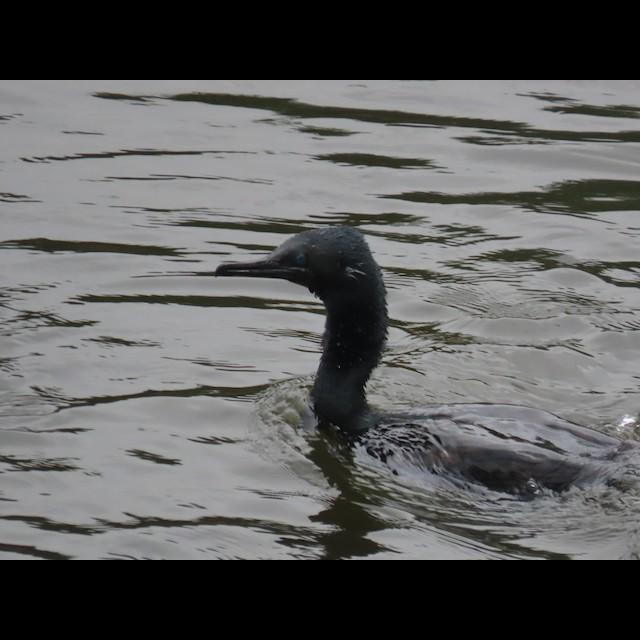cormorant: (214, 222, 550, 488)
